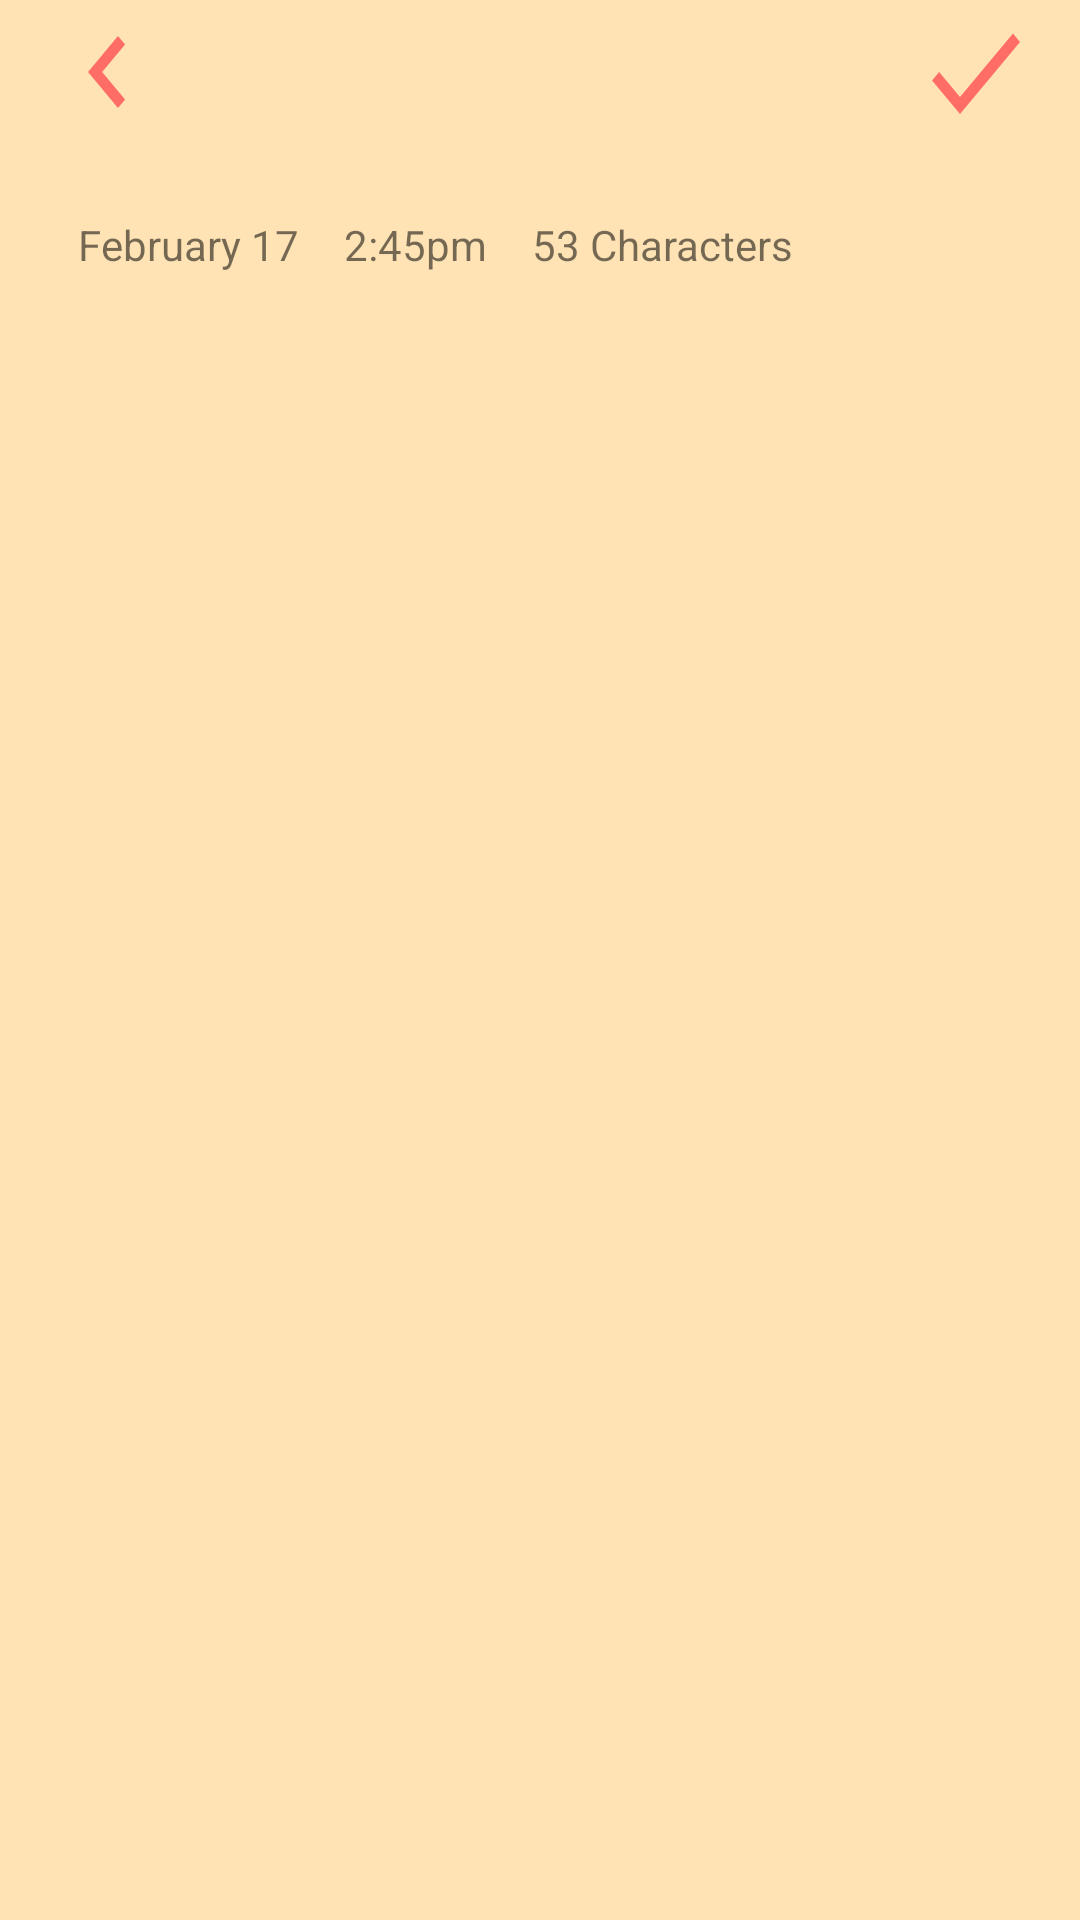

Icons on this 1080 x 1920 Android screen, each with the point to tap as (x,y):
check: (976,74)
chevron left: (106,72)
